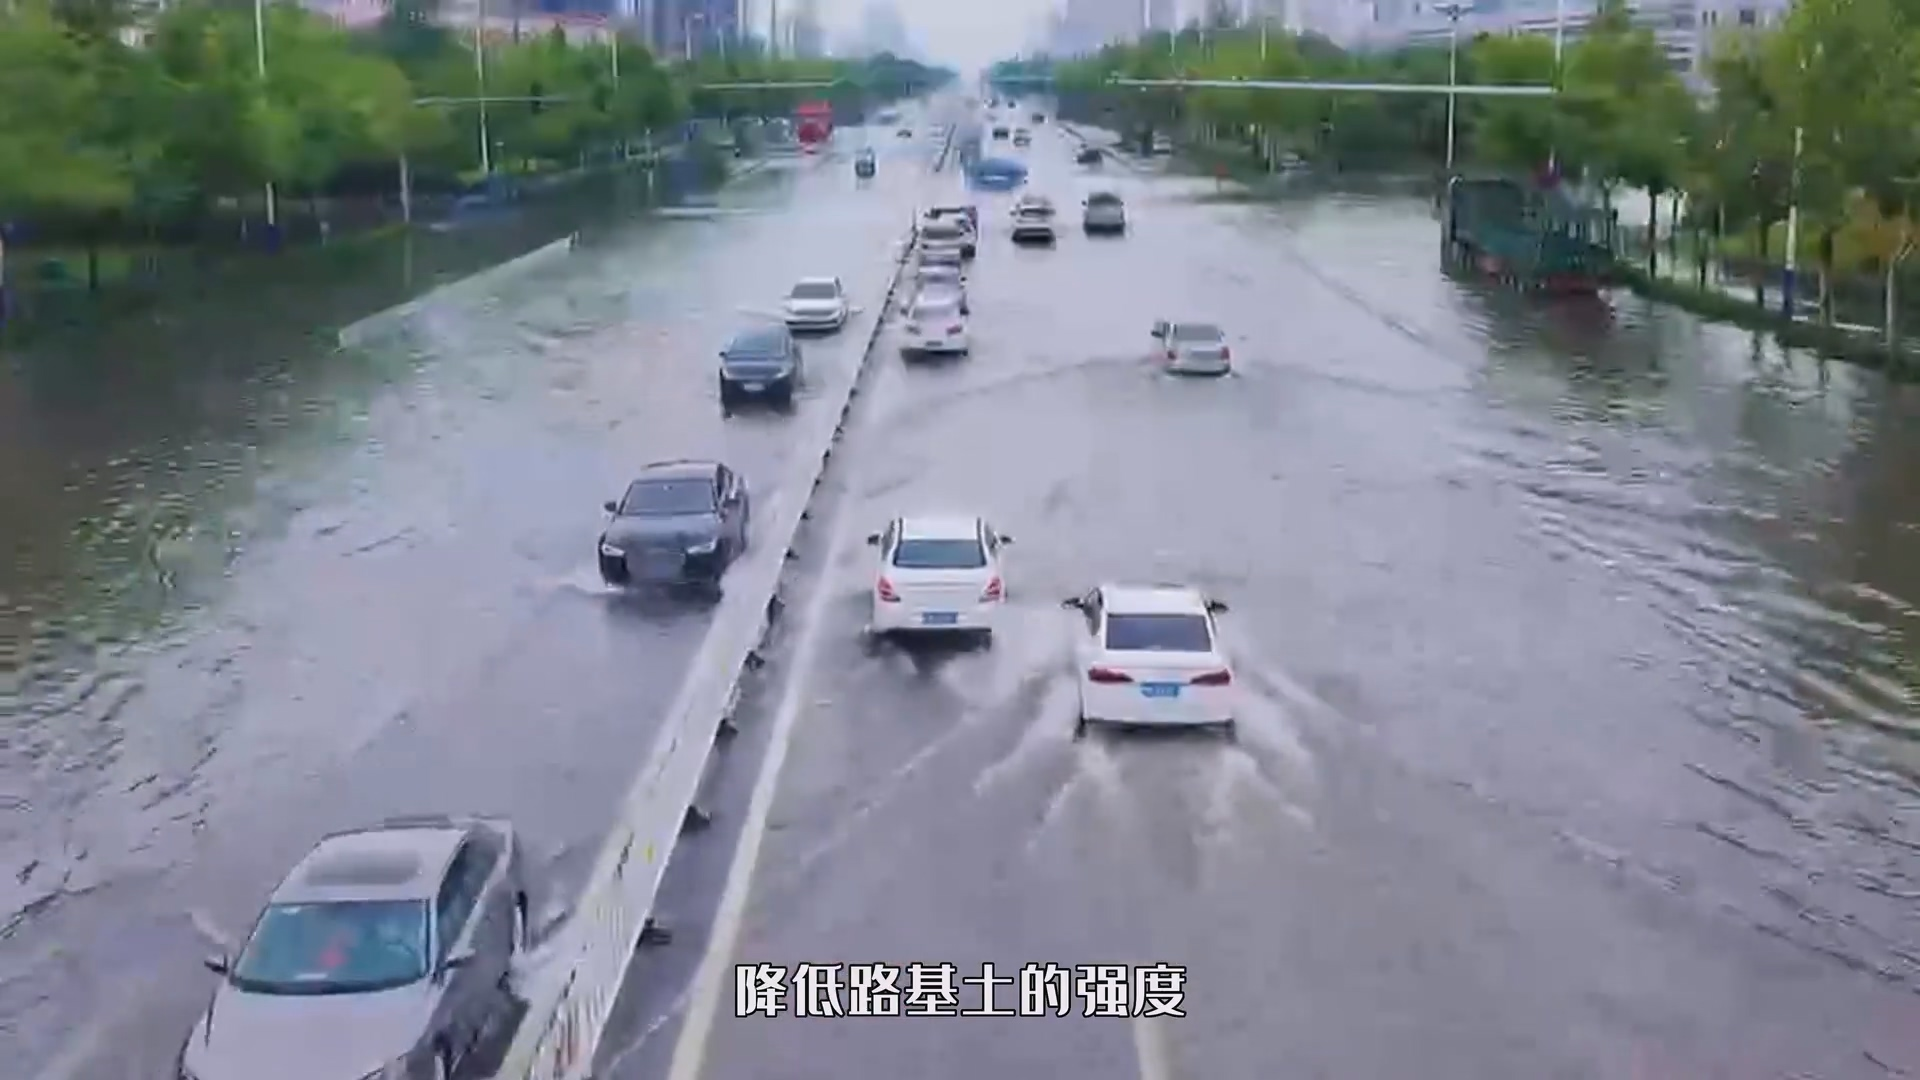puddle: (1, 299, 1920, 1080)
